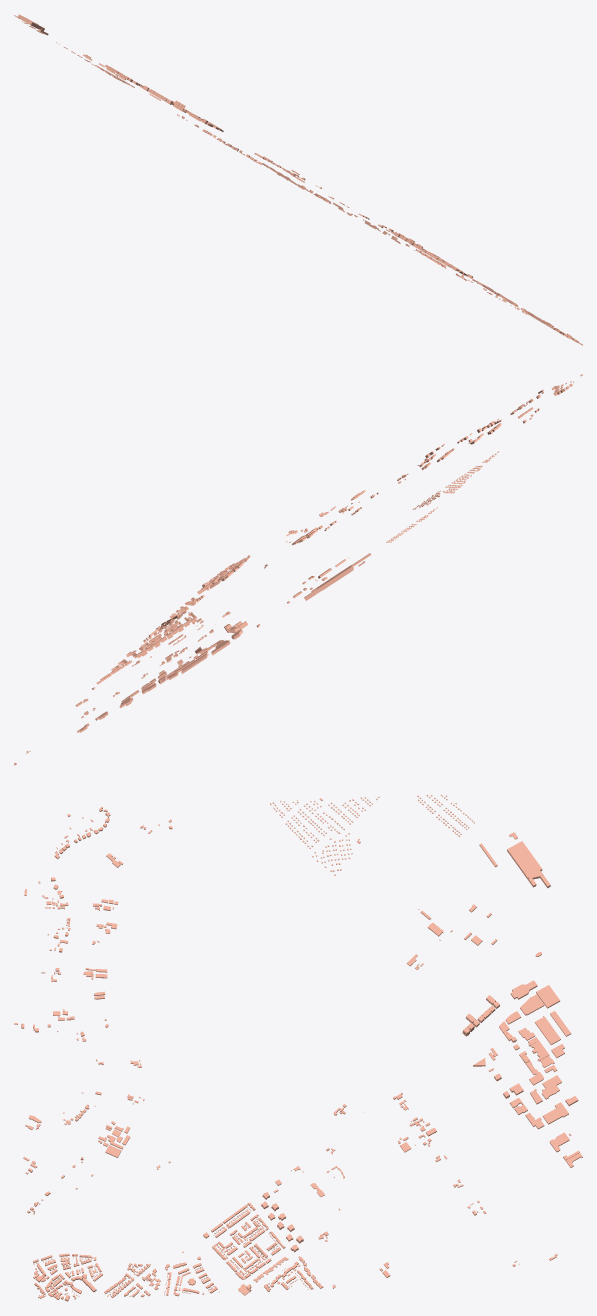
3 views of the same model, one above another, from view 1: azimuth 30°, elevation 25°; view 2: azimuth 150°, elevation 25°; view 3: azimuth 270°, elevation 25° (orthographic). The views are drawn at different scales.
Size of the model in its own units: 2066 by 1483 by 2476.
